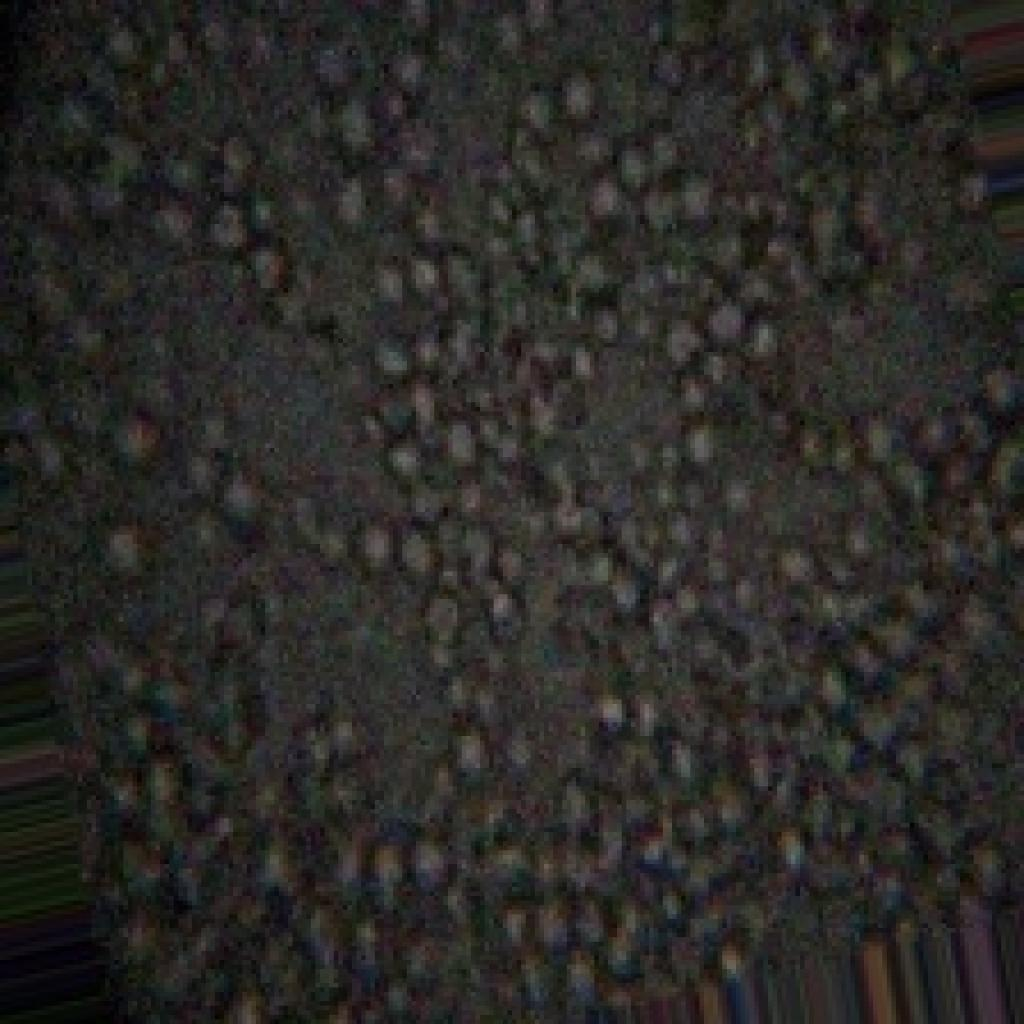Yeast: (6, 9, 1024, 1013)
